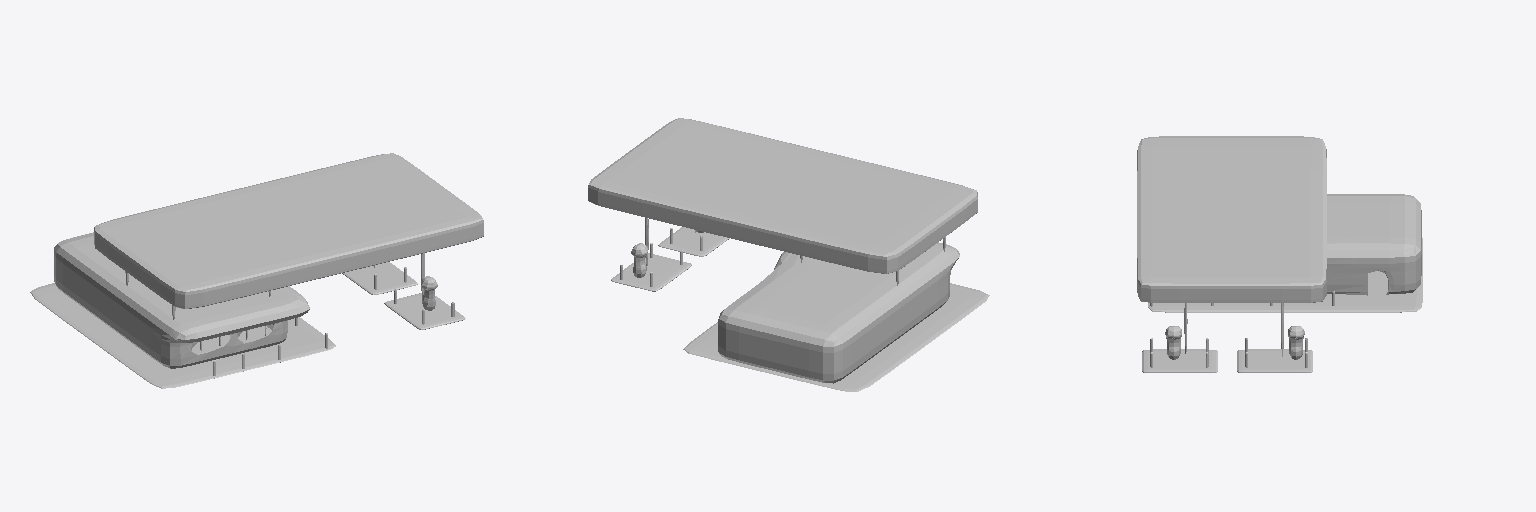
Rendered from mainbuild.obj.
3 renders of one model, left to right at view 1: azimuth 30°, elevation 25°; view 2: azimuth 150°, elevation 25°; view 3: azimuth 270°, elevation 25°, orthographic.
Parts seen in each view (by area): view 1: the_mainbuild; view 2: the_mainbuild; view 3: the_mainbuild.
Boxes of the visible parts, box(x1,y1,x2,y2) form: the_mainbuild: box(30, 153, 483, 388); the_mainbuild: box(588, 118, 989, 391); the_mainbuild: box(1137, 136, 1422, 372).
Size of the model in its own units: 13.78 by 4.08 by 10.55.